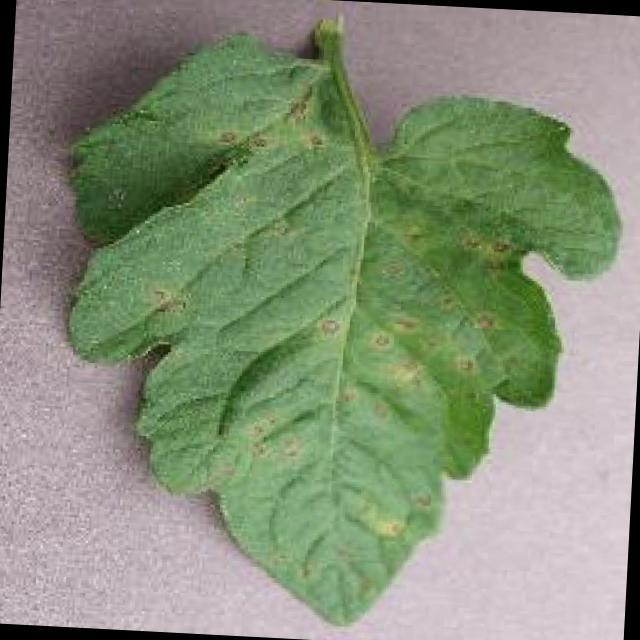Tomato Septoria spot leaf: (54, 28, 630, 640)
